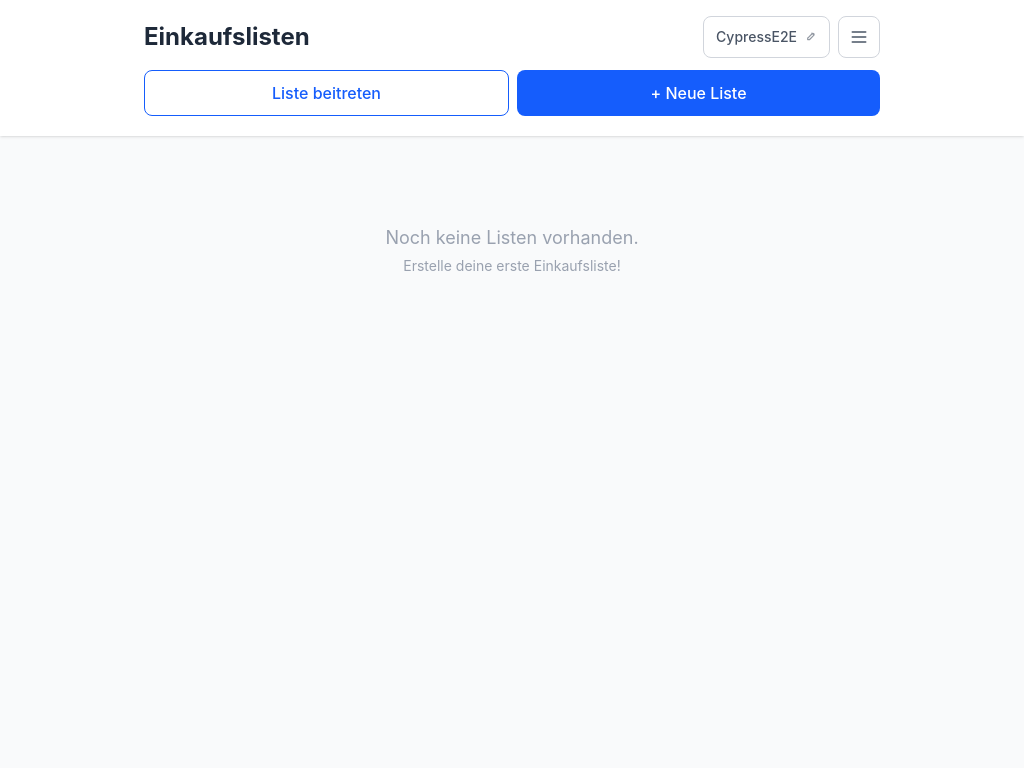
Test case: Dark/Light Mode (E2E) › Light Mode bleibt nach Reload erhalten
Check: the heading "Einkaufslisten" is shown, box left=144, top=21, right=310, bottom=53
Click the button with test id "menu-btn".
click(859, 37)  # box left=838, top=16, right=880, bottom=58
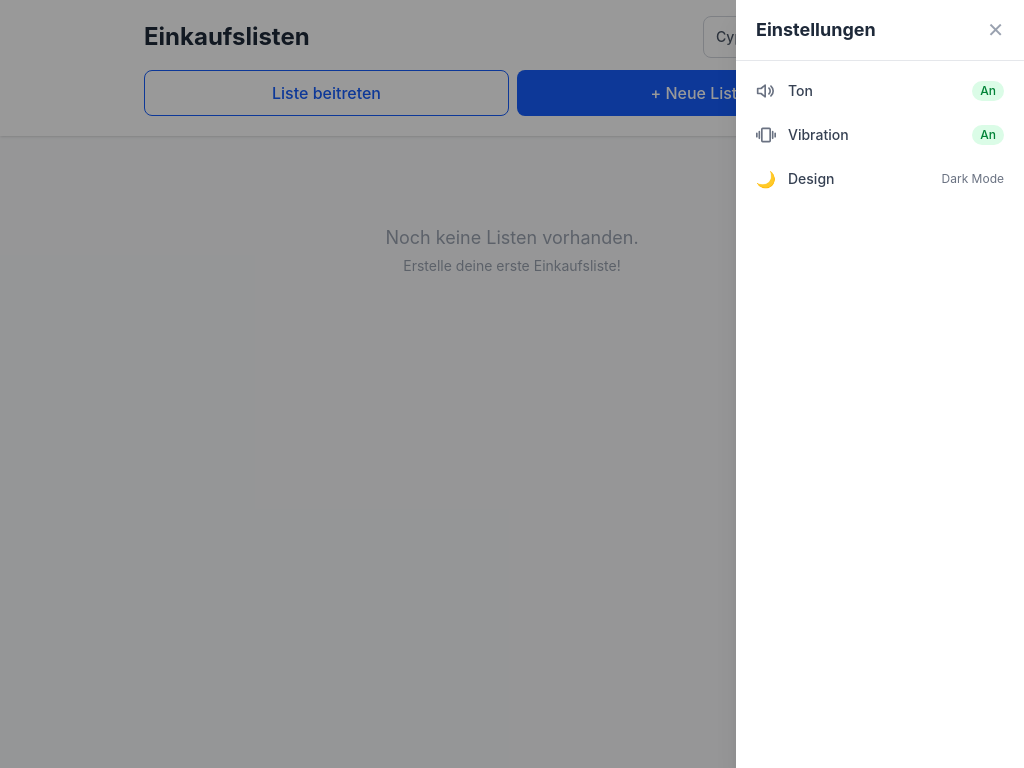
Click the button titled "Dark Mode".
click(811, 179)  # box left=736, top=157, right=1023, bottom=201
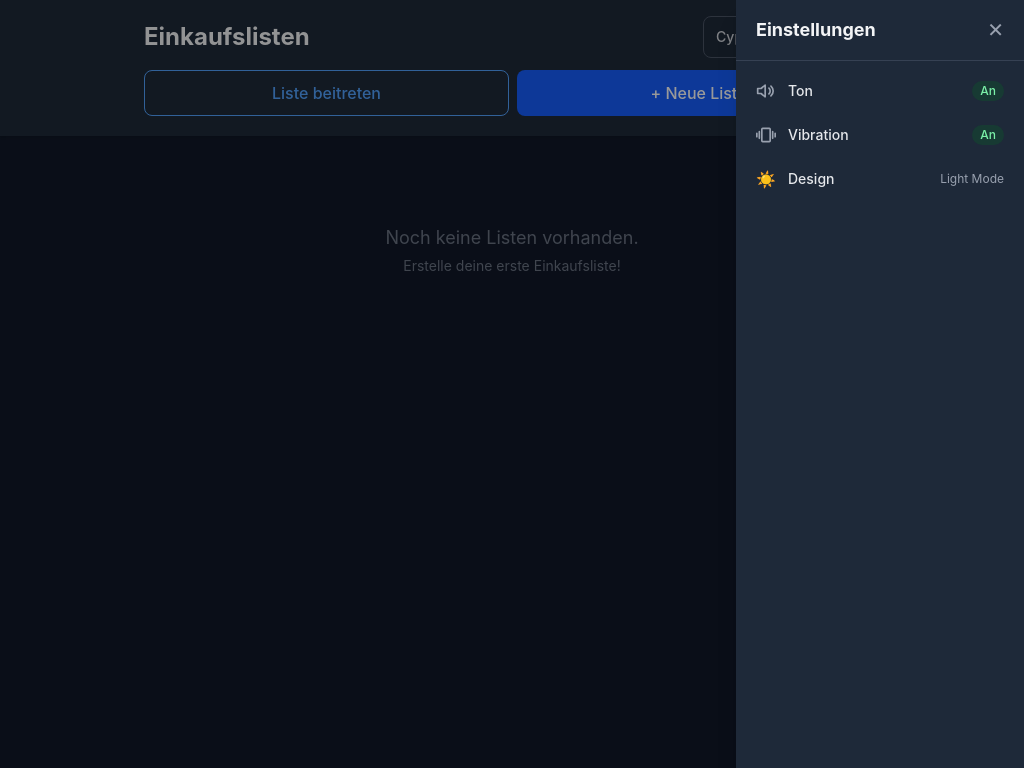
Click the button titled "Light Mode".
click(811, 179)  # box left=736, top=157, right=1023, bottom=201
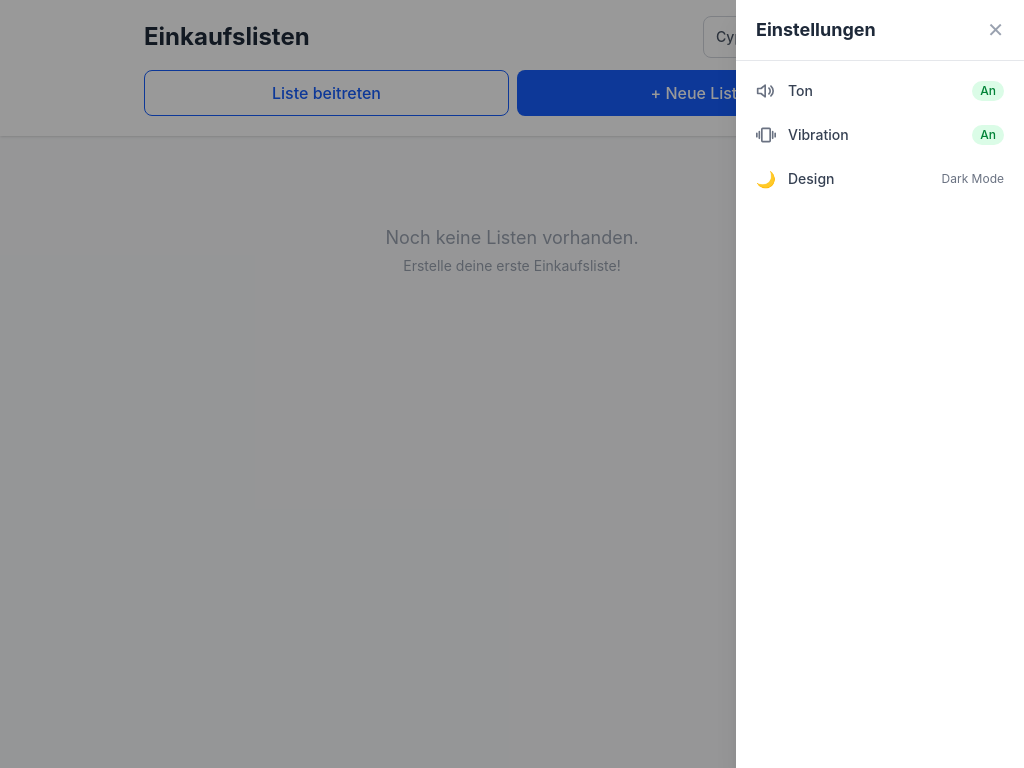
Reload the page
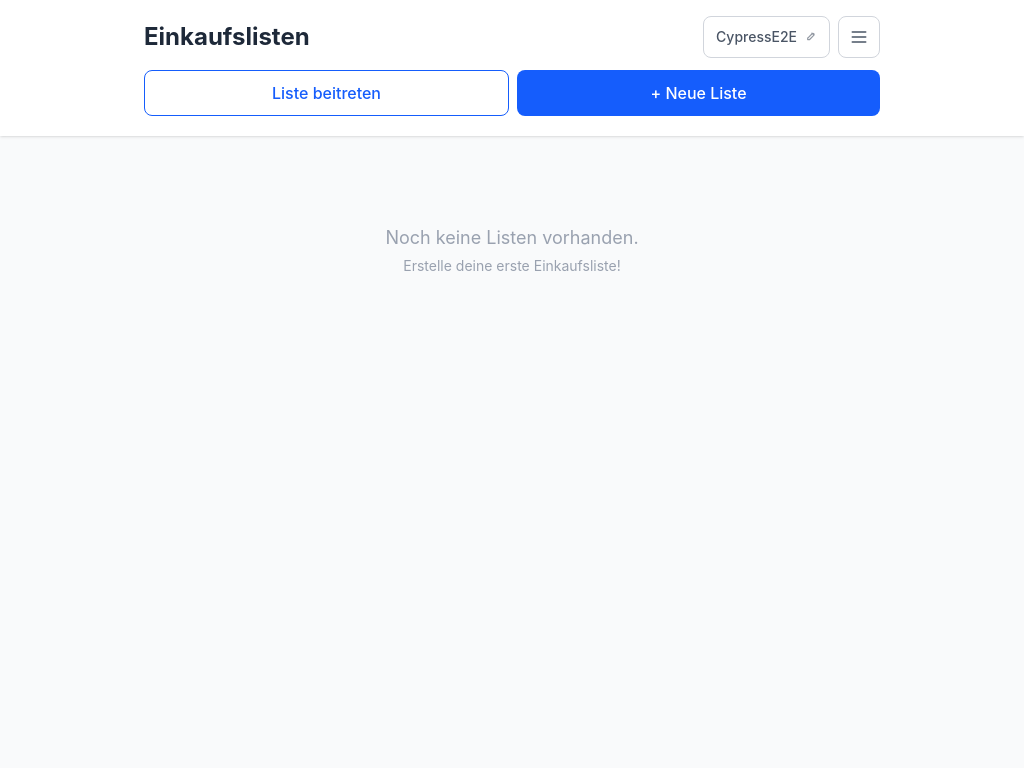
Click the button with test id "menu-btn".
click(859, 37)  # box left=838, top=16, right=880, bottom=58
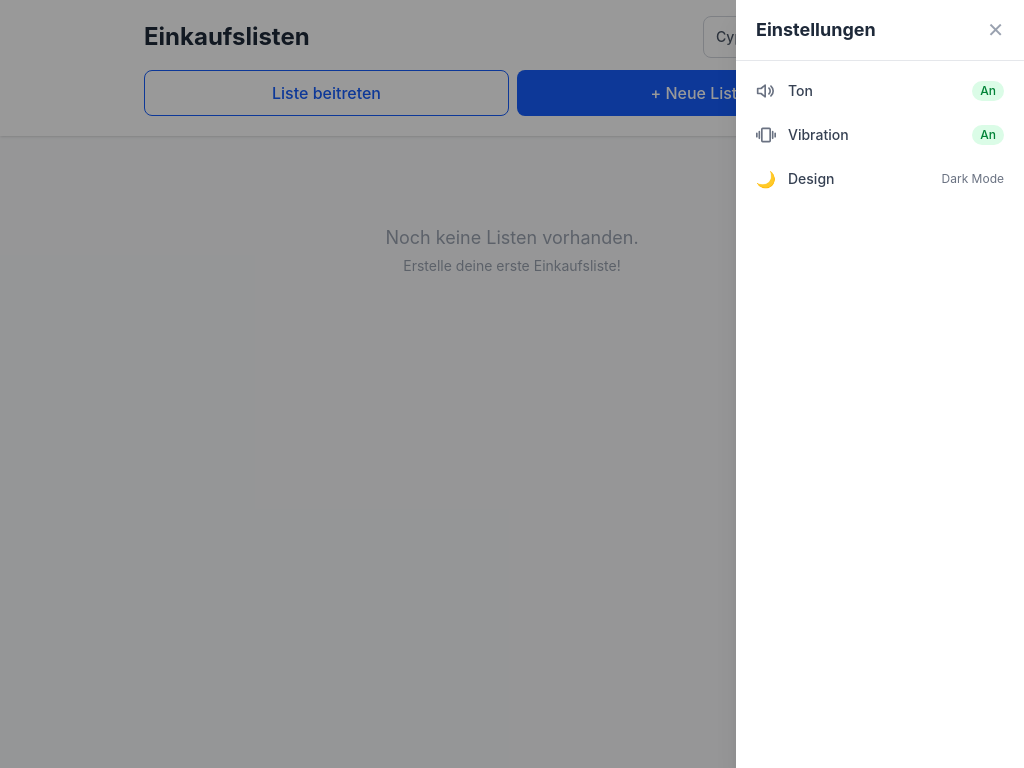
Check: the button titled "Dark Mode" is shown, box left=736, top=157, right=1023, bottom=201
